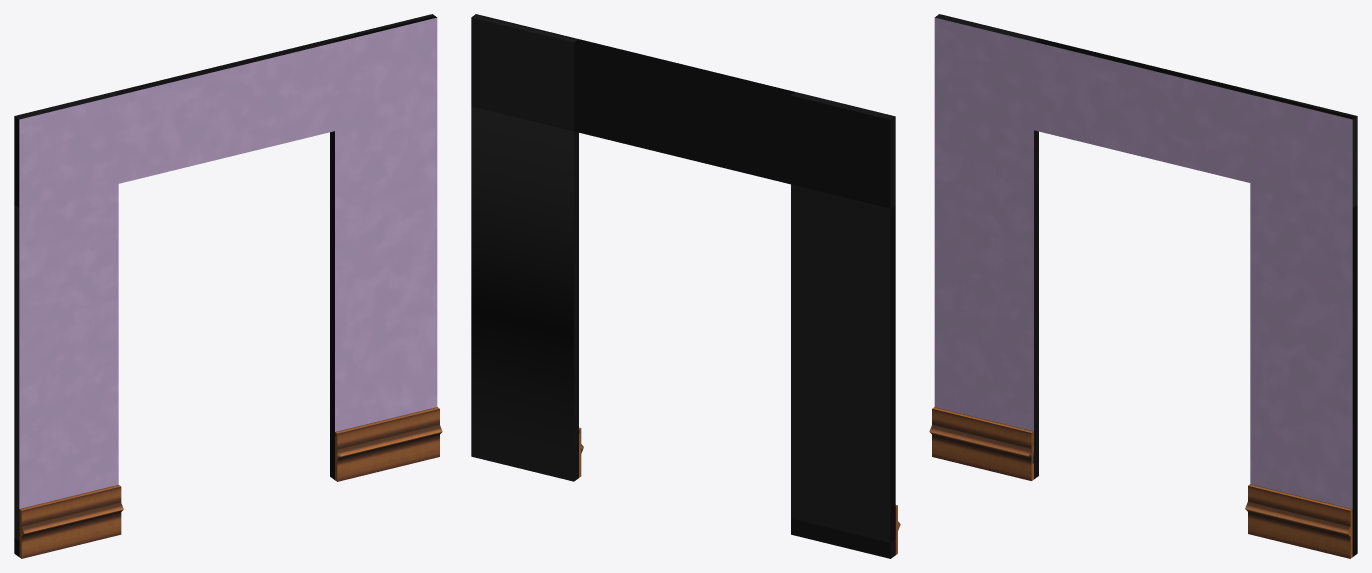
File: Doorway_B.FBX
3 renders of one model, left to right at view 1: azimuth 30°, elevation 25°; view 2: azimuth 150°, elevation 25°; view 3: azimuth 330°, elevation 25°, orthographic.
Parts seen in each view (by area): view 1: Wall_Doorway_5m; view 2: Wall_Doorway_5m; view 3: Wall_Doorway_5m.
Part boxes in pixels (left/top/right/bottom): Wall_Doorway_5m: left=14, top=14, right=442, bottom=558; Wall_Doorway_5m: left=471, top=14, right=900, bottom=558; Wall_Doorway_5m: left=929, top=14, right=1357, bottom=558.
Bounding box in the file's own units: 500 × 500 × 20.82.
